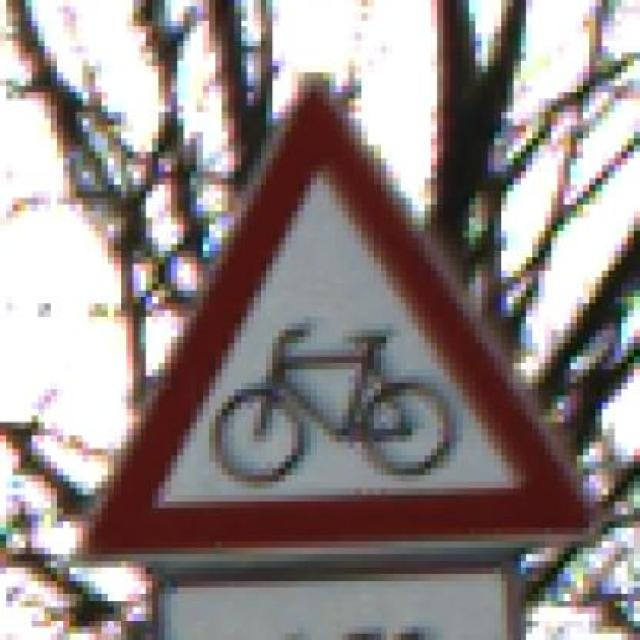CYCLE ROUTE AHEAD WARNING: (50, 66, 615, 560)
